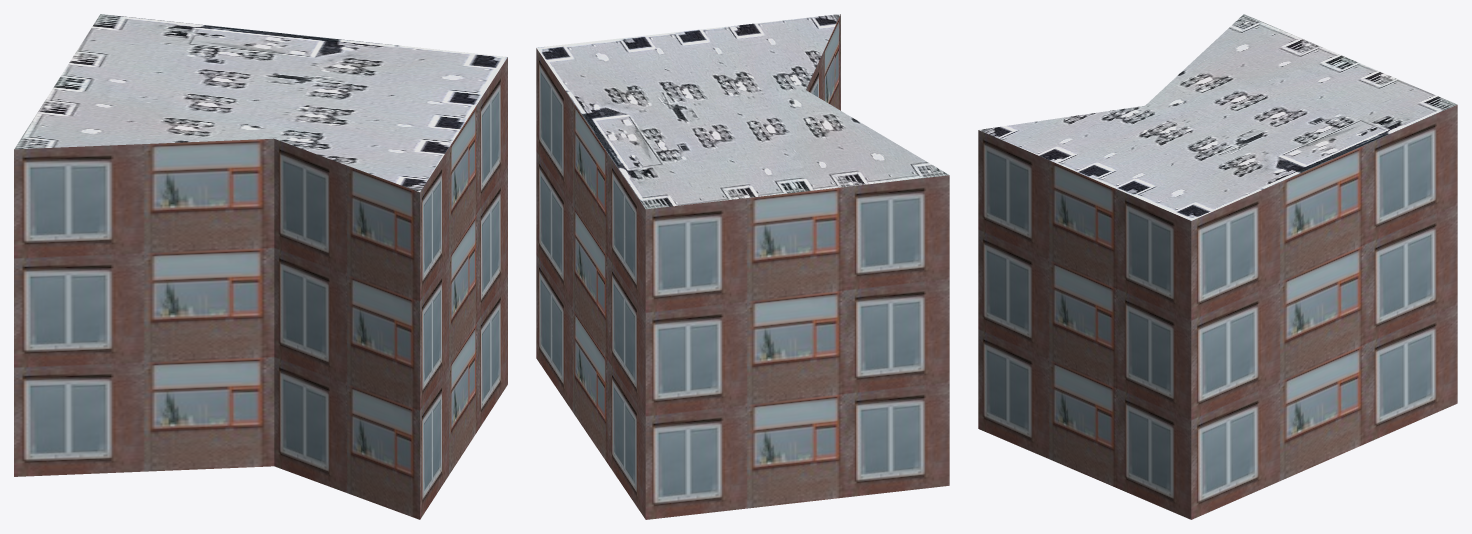
The model's file is ResTex__5316.fbx.
3 views of the same model, side by side, from view 1: azimuth 30°, elevation 25°; view 2: azimuth 150°, elevation 25°; view 3: azimuth 270°, elevation 25° (orthographic). The views are drawn at different scales.
Visible parts, largest first — view 1: CityEngineMaterial_19_m, CityEngineMaterial_15_m; view 2: CityEngineMaterial_19_m, CityEngineMaterial_15_m; view 3: CityEngineMaterial_19_m, CityEngineMaterial_15_m.
Part boxes in pixels (bbox=[...]): CityEngineMaterial_19_m: bbox=[14, 57, 507, 519]; CityEngineMaterial_15_m: bbox=[14, 14, 507, 192]; CityEngineMaterial_19_m: bbox=[536, 14, 949, 519]; CityEngineMaterial_15_m: bbox=[536, 14, 949, 209]; CityEngineMaterial_19_m: bbox=[978, 105, 1457, 519]; CityEngineMaterial_15_m: bbox=[979, 14, 1457, 220].
Bounding box in the file's own units: 13.37 × 9 × 13.08.
2 materials, 2 textured.
